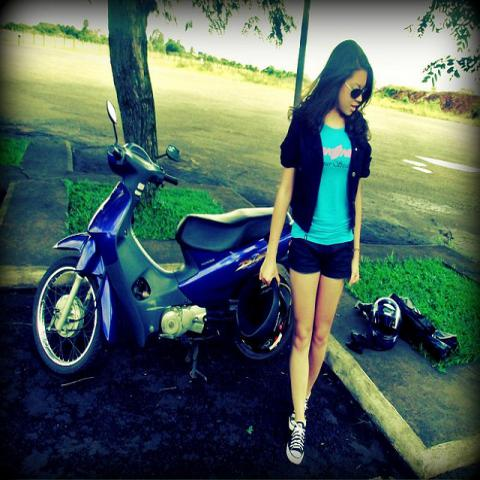motorcycle: (30, 97, 292, 381)
